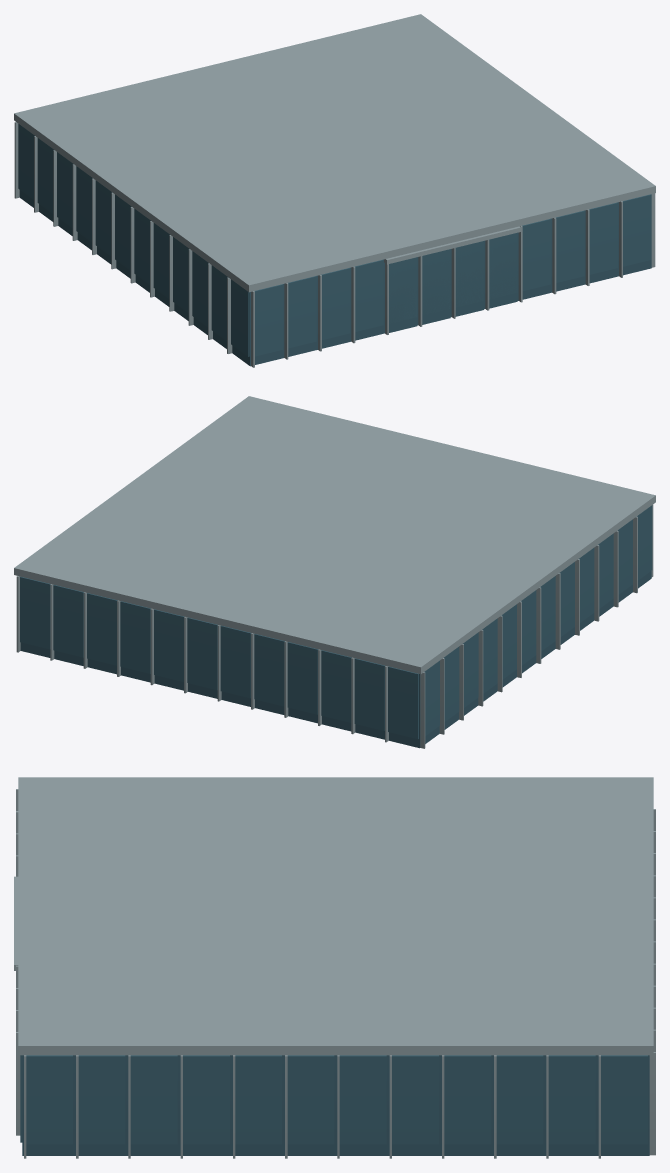
The model's file is tower-glass.glb.
3 renders of one model, top to bottom at view 1: azimuth 30°, elevation 25°; view 2: azimuth 150°, elevation 25°; view 3: azimuth 270°, elevation 25°, orthographic. The views are drawn at different scales.
Visible parts, largest first — view 1: lobby, typical-floor, mechanical, podium; view 2: lobby, typical-floor, mechanical; view 3: lobby, typical-floor, mechanical.
Boxes of the visible parts, x1,y1,x2,y2 form: lobby: (14,14,655,367); typical-floor: (35,23,633,259); mechanical: (103,54,566,240); podium: (389,239,517,323); lobby: (14,396,655,748); typical-floor: (36,405,622,658); mechanical: (103,436,560,626); lobby: (14,777,655,1158); typical-floor: (39,786,632,1036); mechanical: (116,812,555,1010).
Size of the model in its own units: 19.7 by 3.8 by 19.76.
